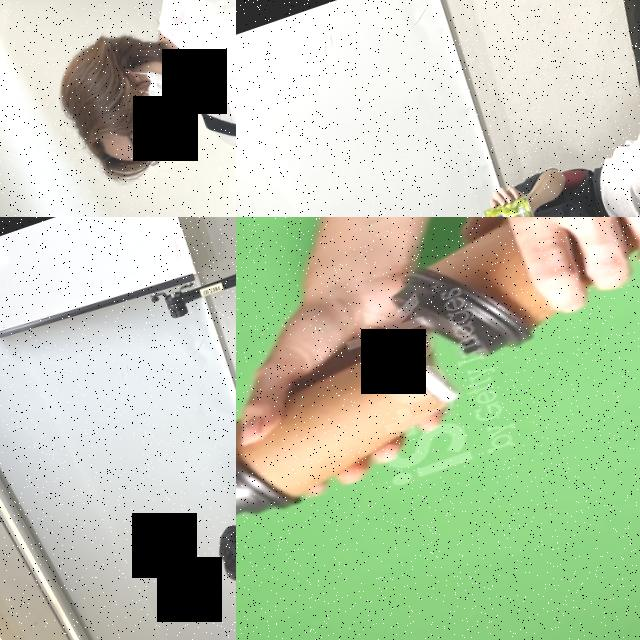can: (481, 192, 535, 217)
cup: (236, 323, 480, 525), (373, 217, 640, 381)
